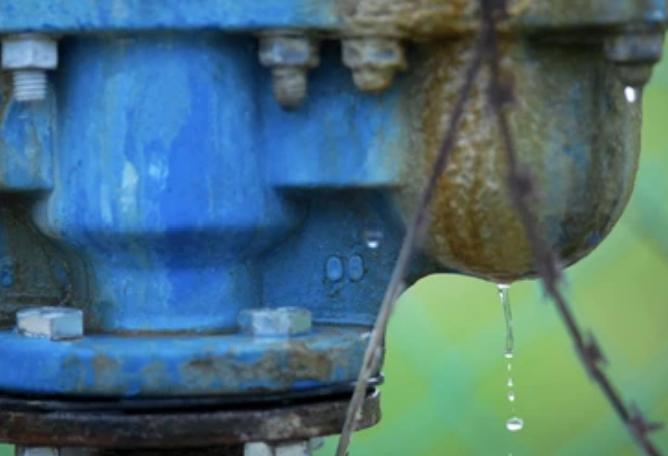water drop: (495, 278, 516, 360), (622, 82, 643, 103), (506, 412, 525, 433)
